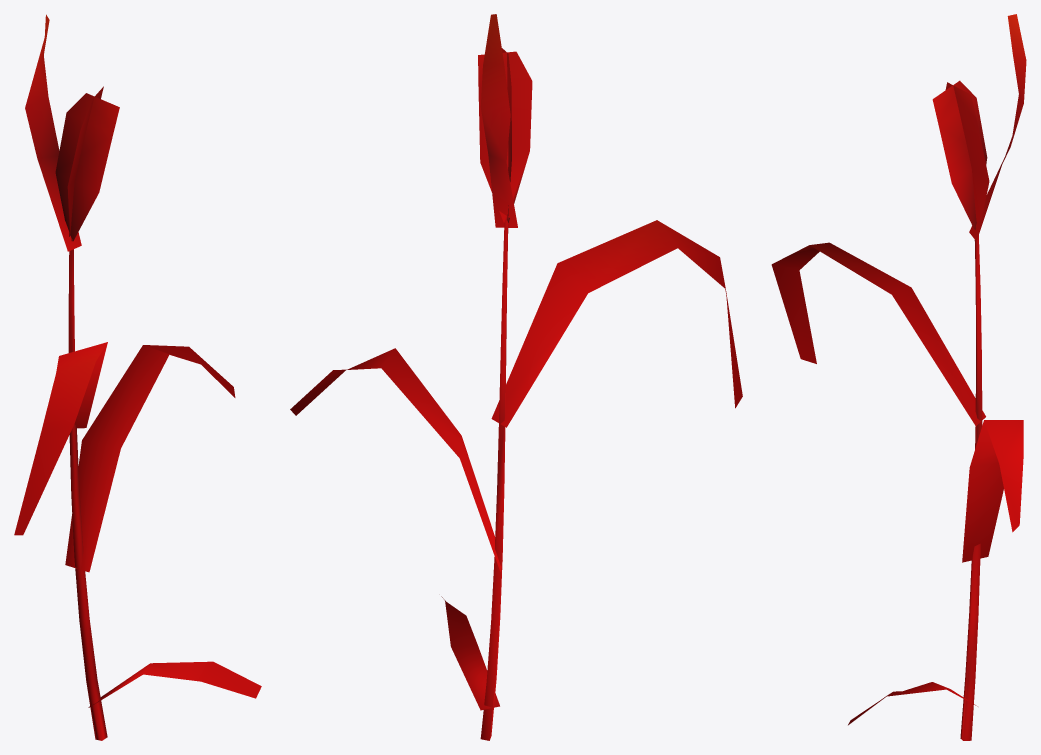
File: SM_BarleyPlant_6.fbx
3 views of the same model, side by side, from view 1: azimuth 30°, elevation 25°; view 2: azimuth 150°, elevation 25°; view 3: azimuth 270°, elevation 25° (orthographic). The views are drawn at different scales.
Parts seen in each view (by area): view 1: SM_BarleyPlant_6; view 2: SM_BarleyPlant_6; view 3: SM_BarleyPlant_6.
Boxes of the visible parts, x1=… form: SM_BarleyPlant_6: x1=14, y1=14, x2=261, y2=740; SM_BarleyPlant_6: x1=290, y1=14, x2=742, y2=740; SM_BarleyPlant_6: x1=771, y1=14, x2=1026, y2=740.
Bounding box in the file's own units: 0.7264 × 1.54 × 0.5006.
